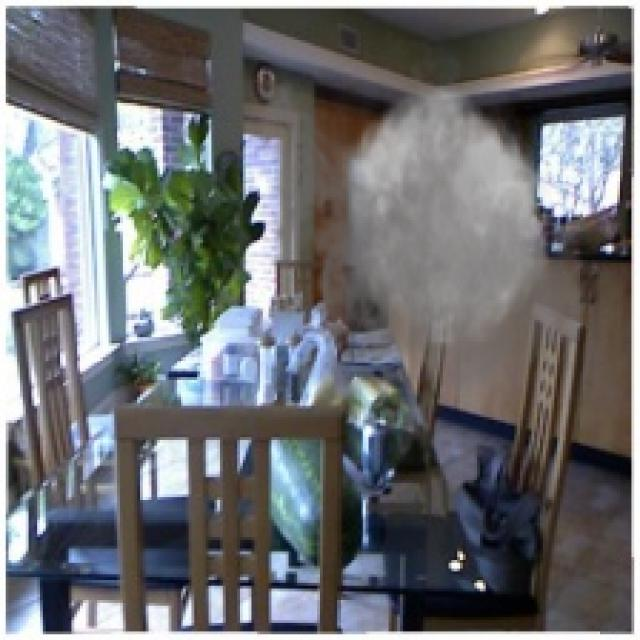smoke: (249, 14, 600, 423)
